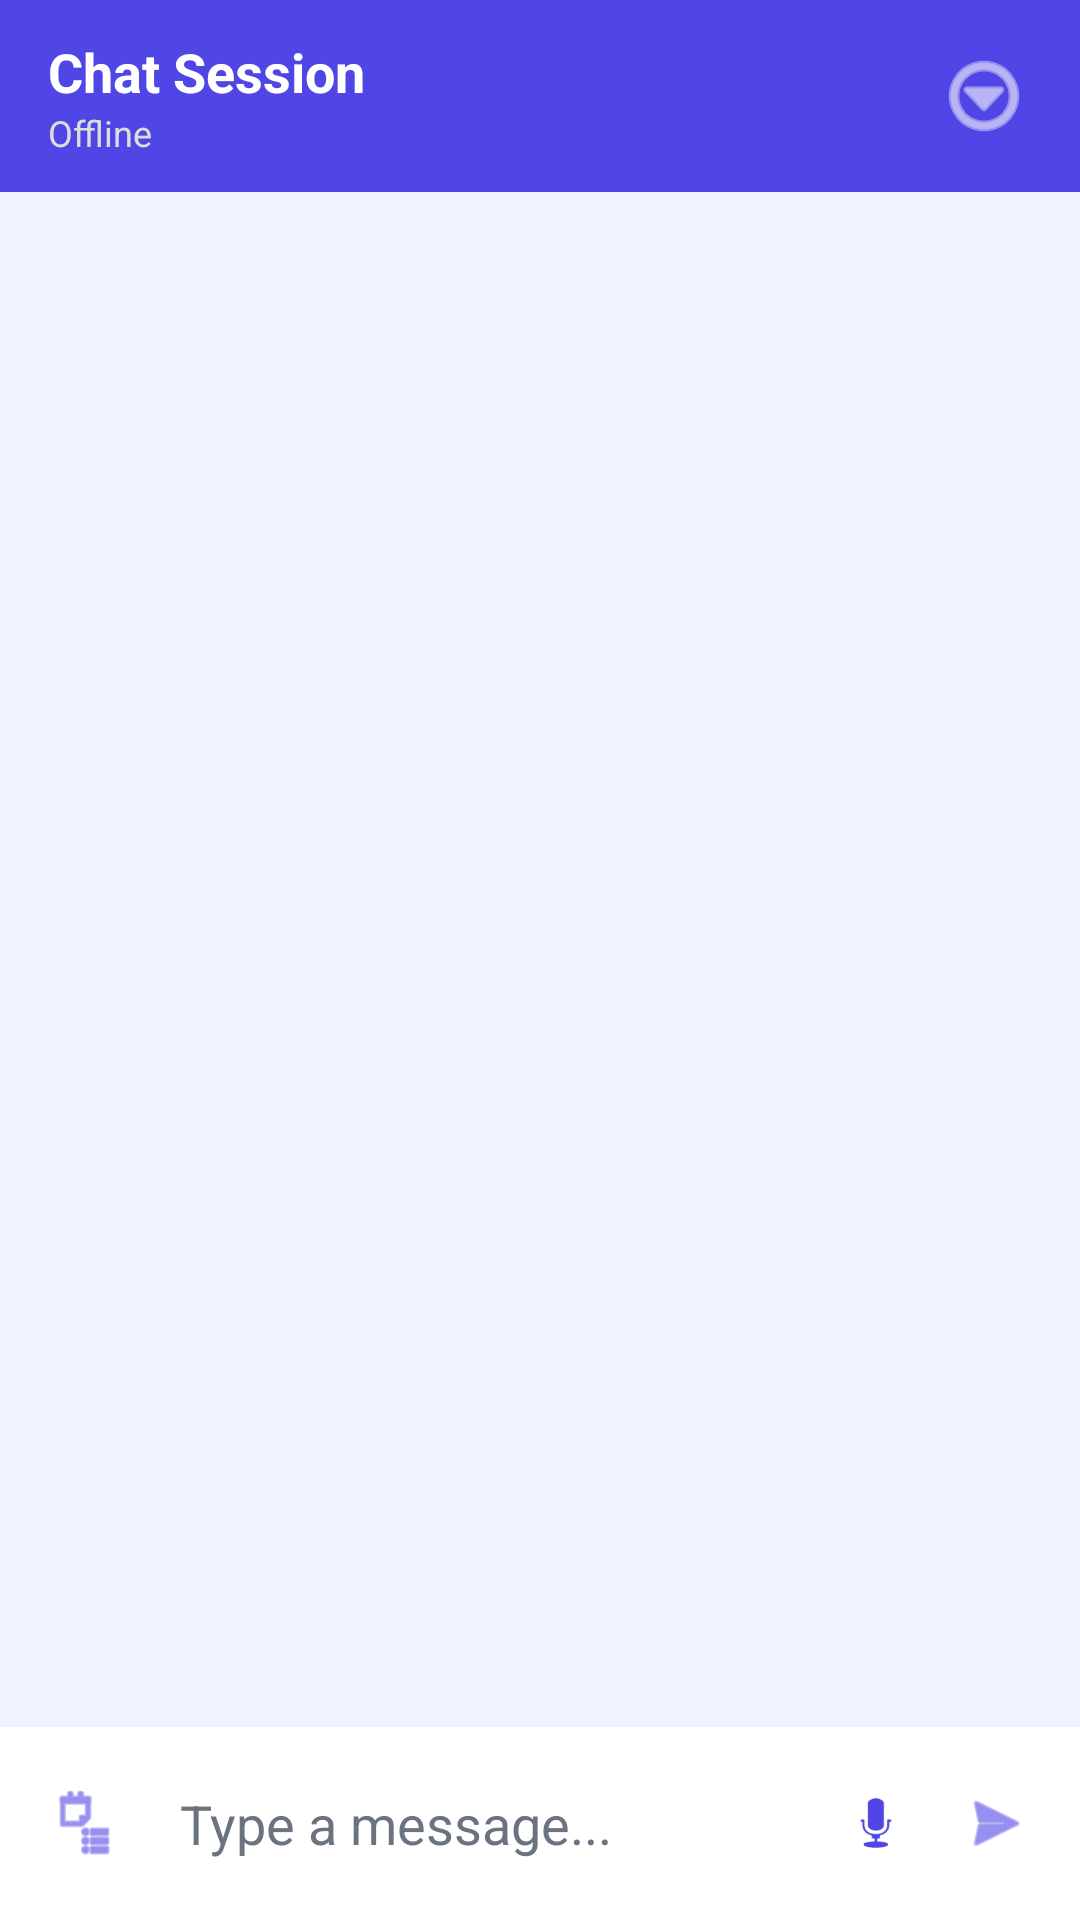

Point at icon controls on the screen. Image size 1080 x 1920, points as (x=x, y=y).
agenda: (x=84, y=1823)
more: (x=984, y=96)
send: (x=997, y=1823)
speak now: (x=876, y=1823)
